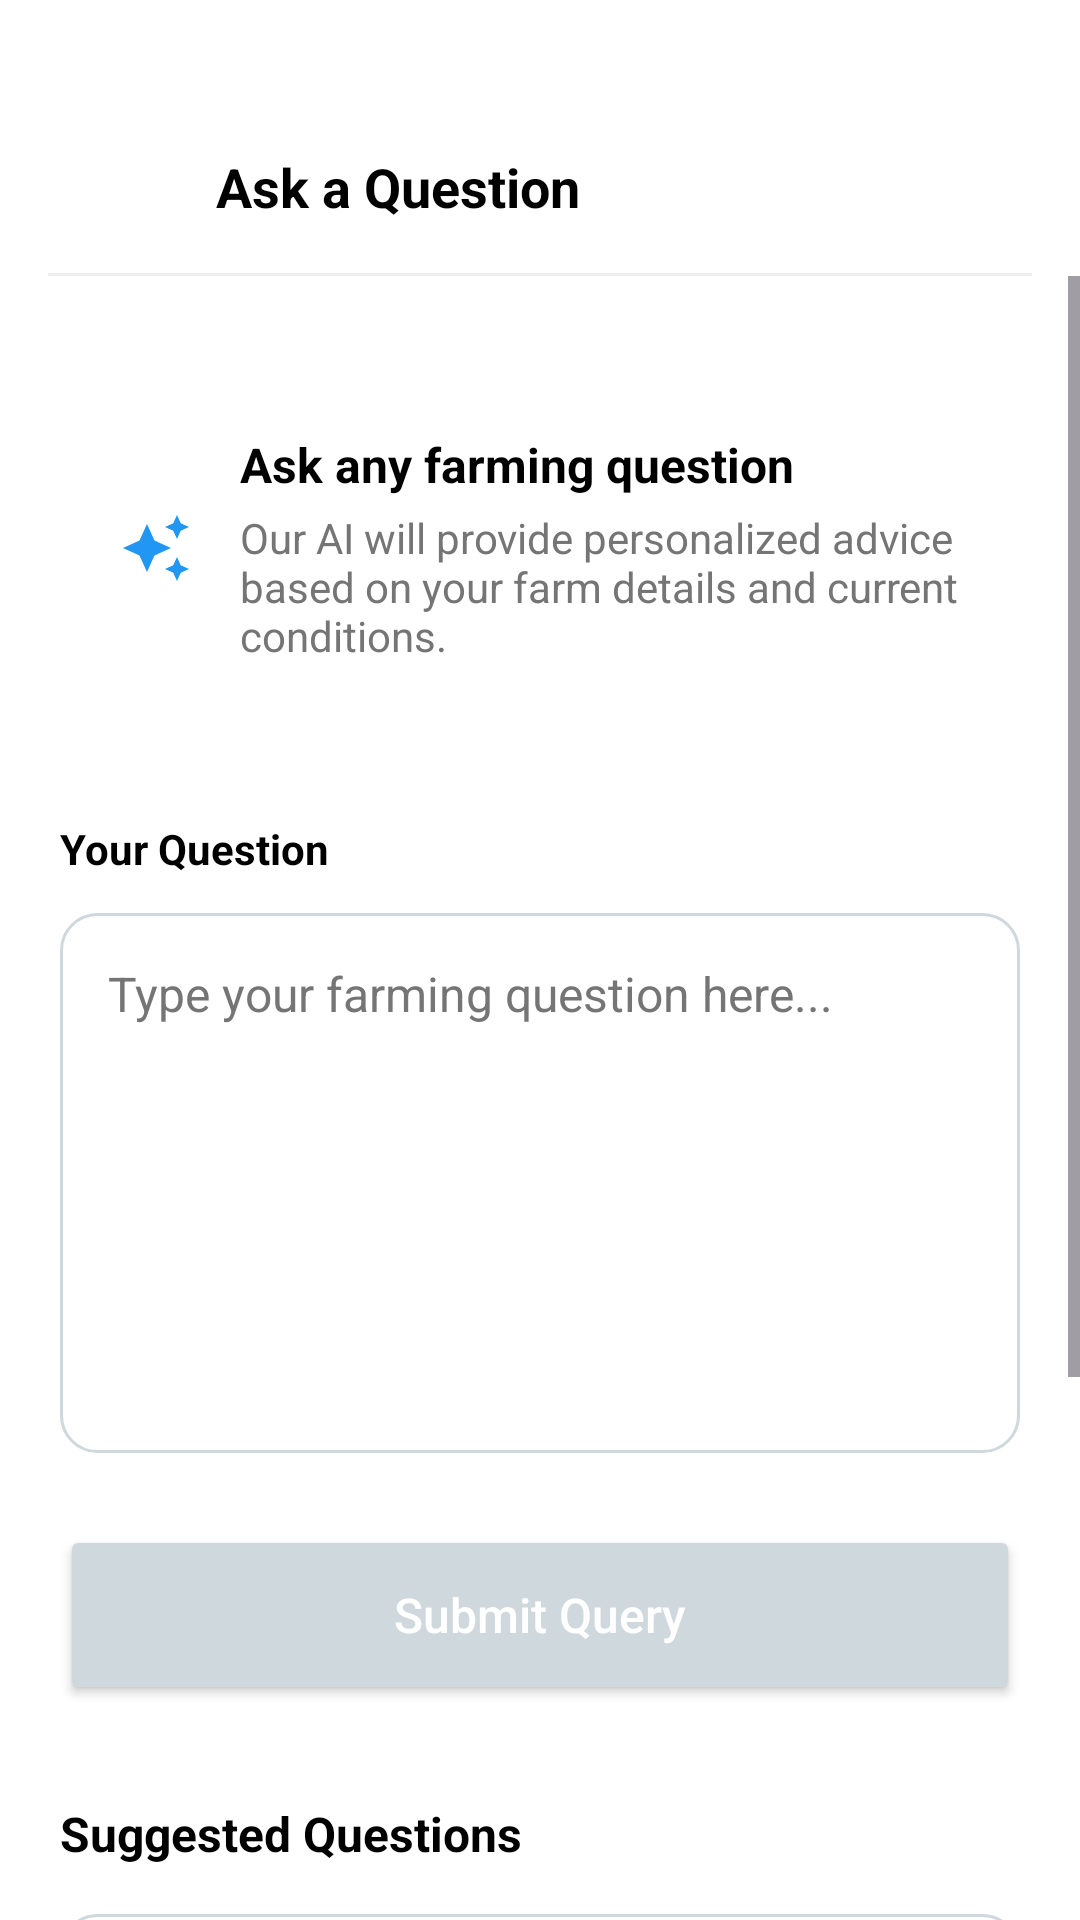

Named icons in this screenshot (1080 × 1920) and their bounding boxes, rect(x1, y1, x2, y2):
sparkle: rect(123, 515, 189, 581)
